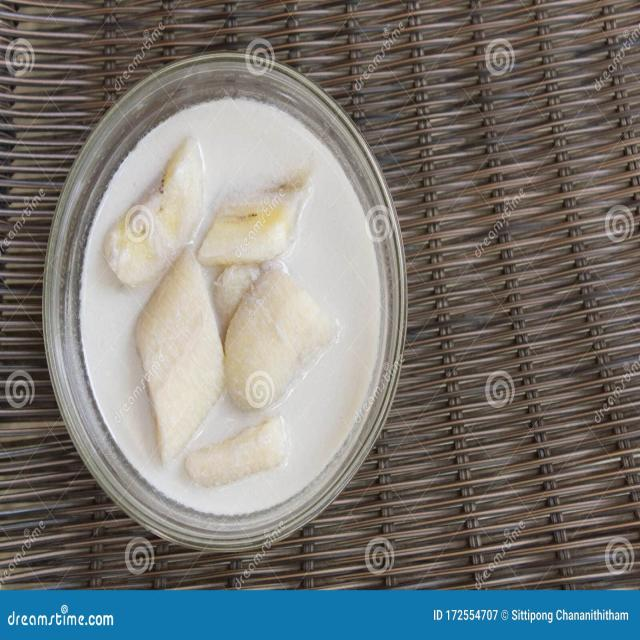platano: (99, 139, 351, 489)
